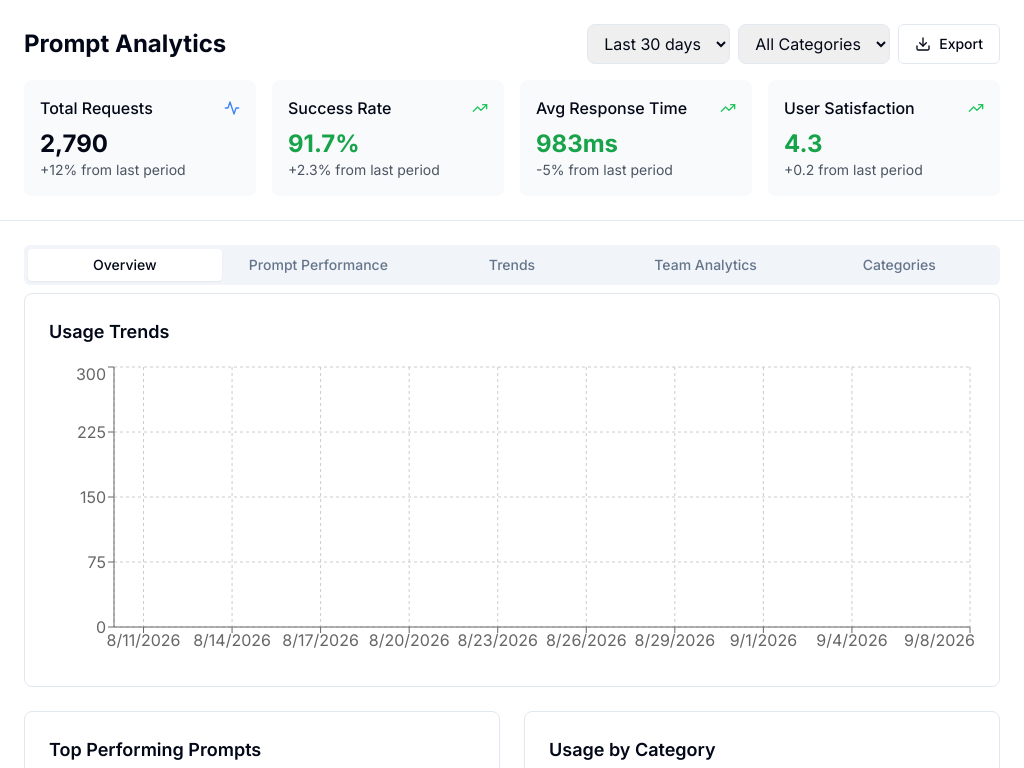
AnalyticsDashboard › displays metric trends over time
Click the tab "Trends". click: (512, 265)
box: [415, 249, 609, 281]
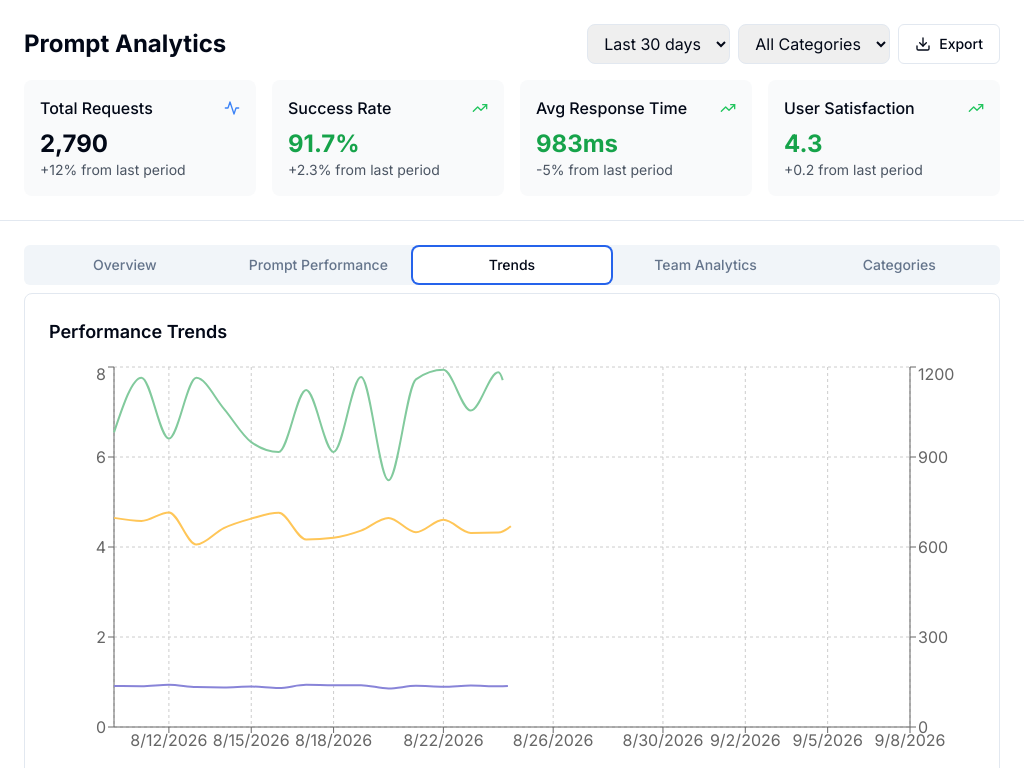
Result: the heading "Performance Trends" is shown at [49, 321, 227, 342]
